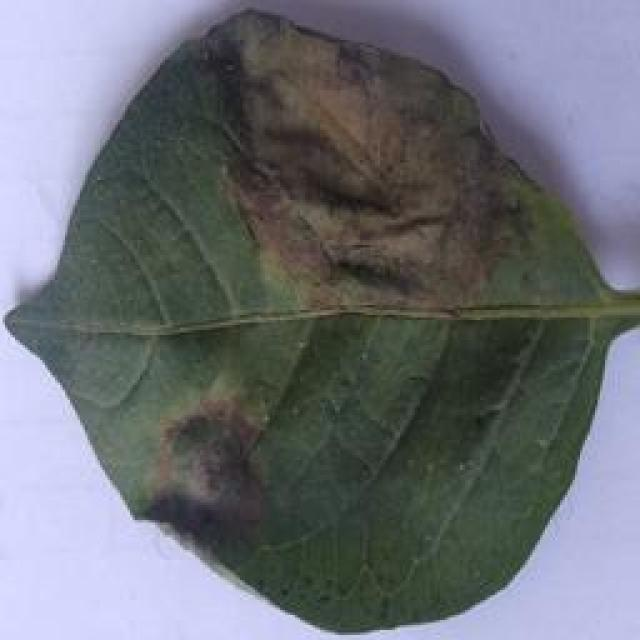Potato_Late_Blight: (5, 1, 630, 626)
